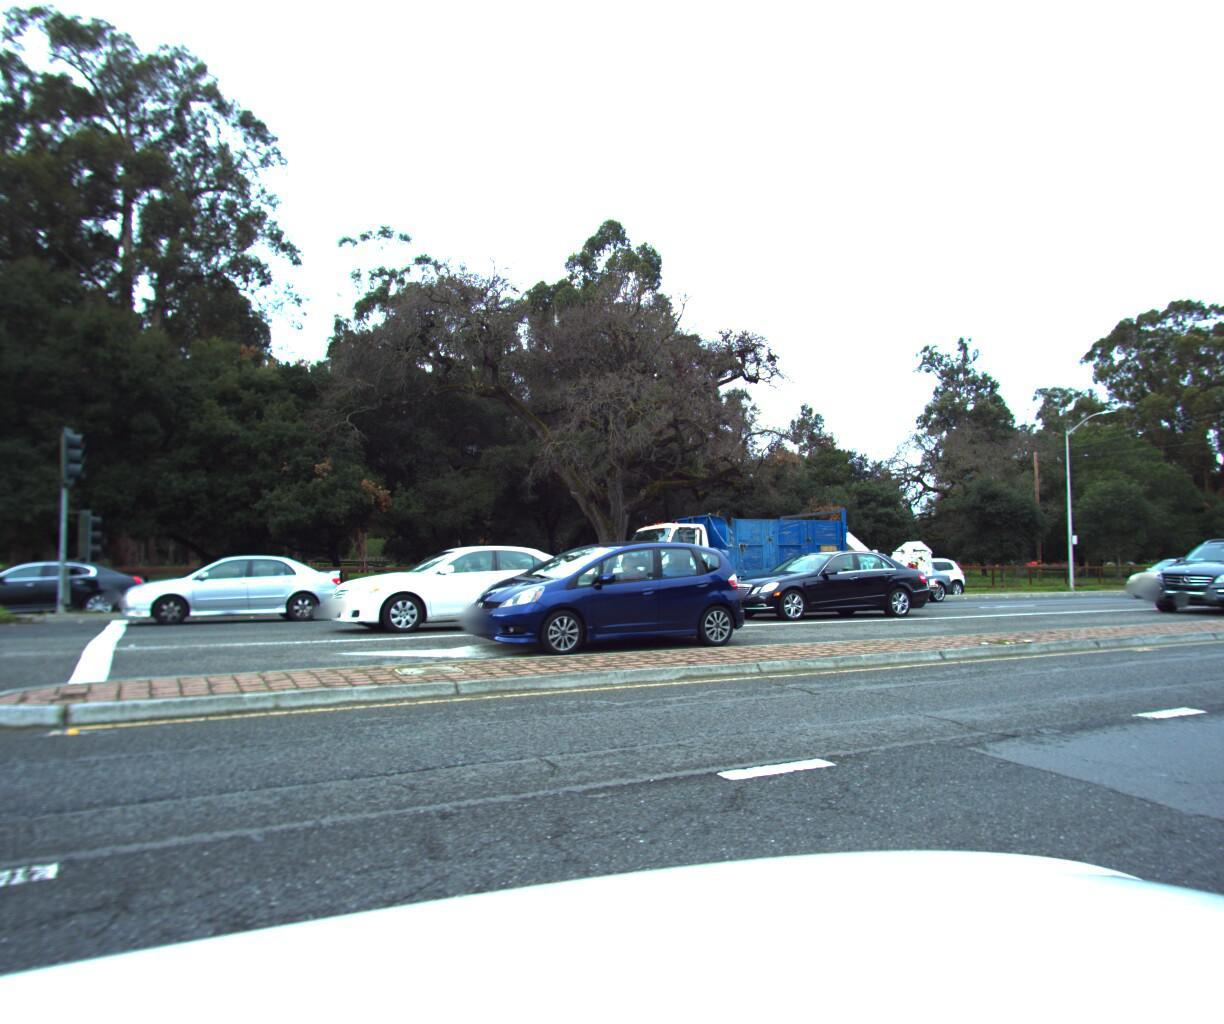car: (443, 532, 764, 658), (316, 536, 616, 637), (709, 543, 936, 625), (115, 549, 345, 624), (0, 554, 135, 623), (565, 535, 716, 594), (1137, 531, 1224, 609), (816, 554, 956, 597), (1124, 546, 1224, 593), (862, 555, 974, 593)
truck: (606, 496, 969, 613)
